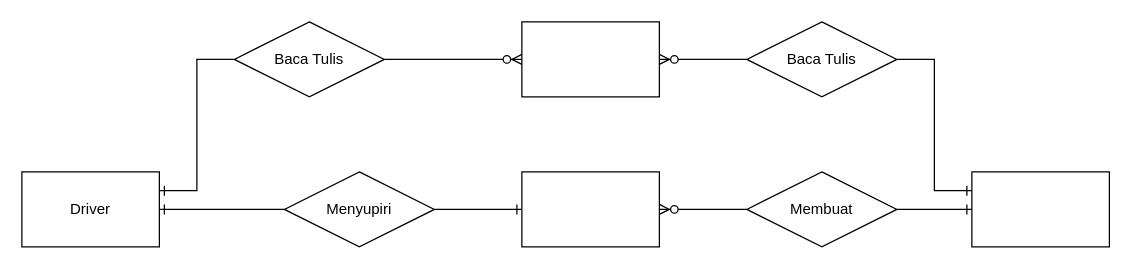
The diagram is 1131 pixels wide and 269 high, and some of its shapes have lost their labels. Here are the shapes that lost their labels. From the top down, the centre of each, then its label:
the point at 590,59: Chat
the point at 590,209: Pesanan Antar Jemput
the point at 1040,209: User
